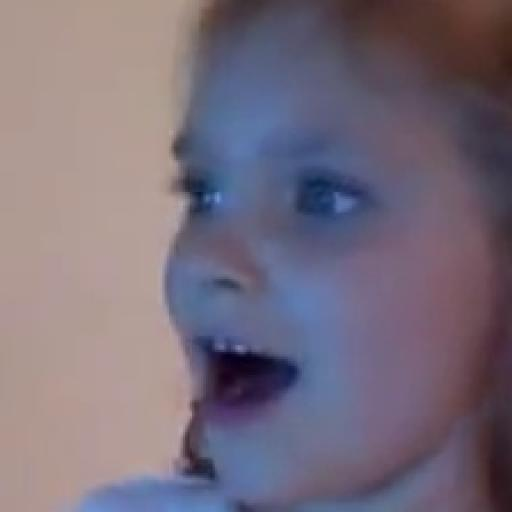Autism: (139, 2, 512, 512)
